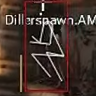hacks_3: (6, 1, 94, 93)
